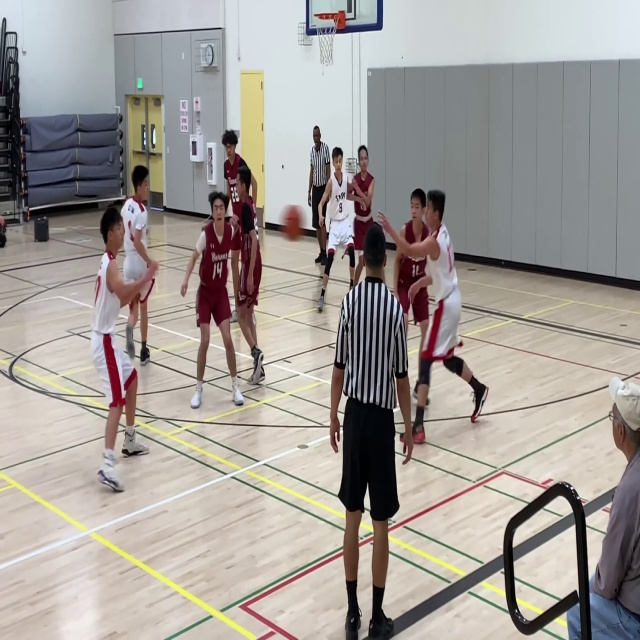Basketball: (282, 205, 305, 239)
